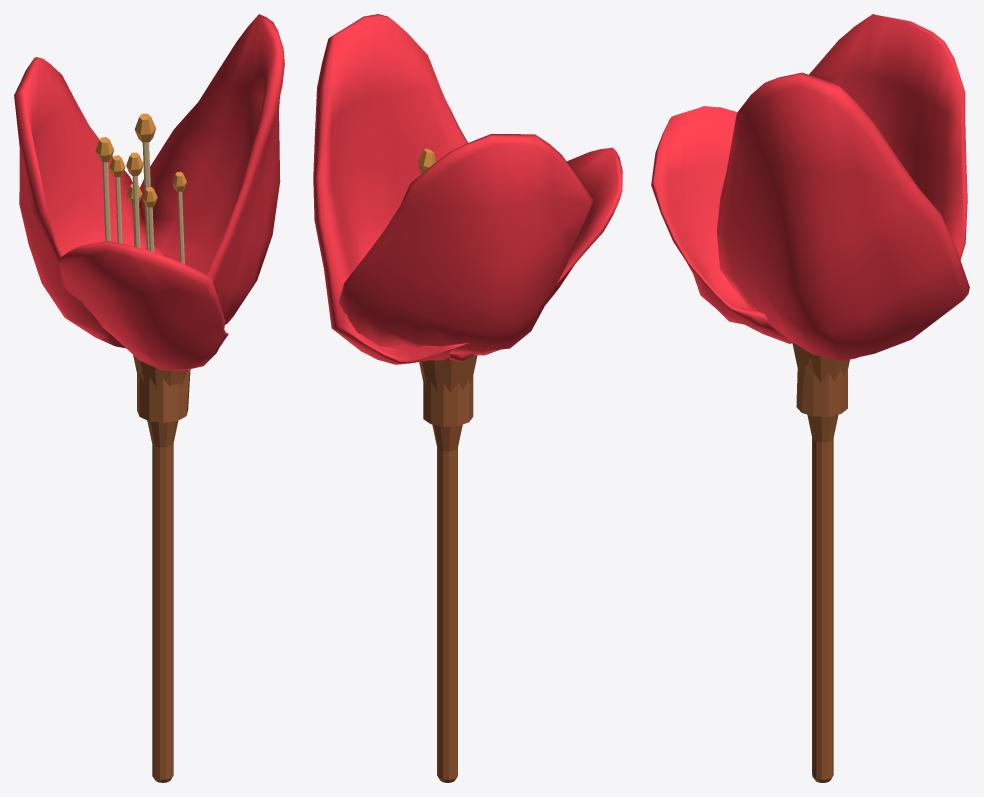
Rendered from Flower 4.fbx.
3 renders of one model, left to right at view 1: azimuth 30°, elevation 25°; view 2: azimuth 150°, elevation 25°; view 3: azimuth 270°, elevation 25°, orthographic. The views are drawn at different scales.
Parts seen in each view (by area): view 1: Plane.187; view 2: Plane.187; view 3: Plane.187.
Boxes of the visible parts, left/top/right/bottom form: Plane.187: left=14, top=14, right=284, bottom=782; Plane.187: left=313, top=14, right=622, bottom=782; Plane.187: left=651, top=14, right=969, bottom=782.
Size of the model in its own units: 1.79 by 5.03 by 1.93.
